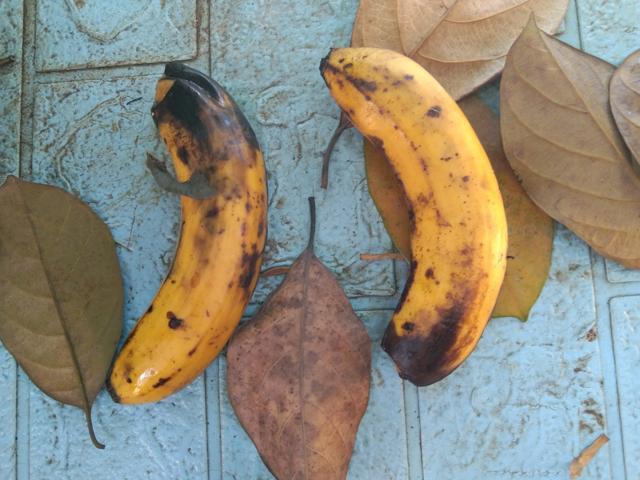overripe: (316, 49, 508, 384)
rotten: (91, 54, 289, 405)
